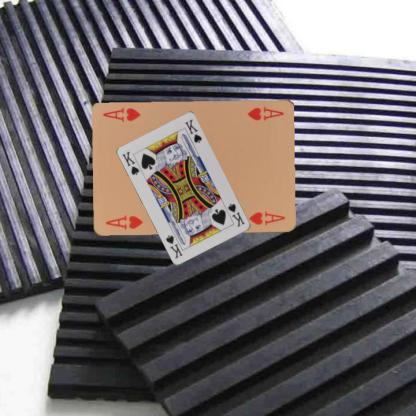Ah: (103, 212, 144, 231), (245, 103, 285, 121)
Ks: (225, 201, 246, 228), (119, 149, 140, 176)
